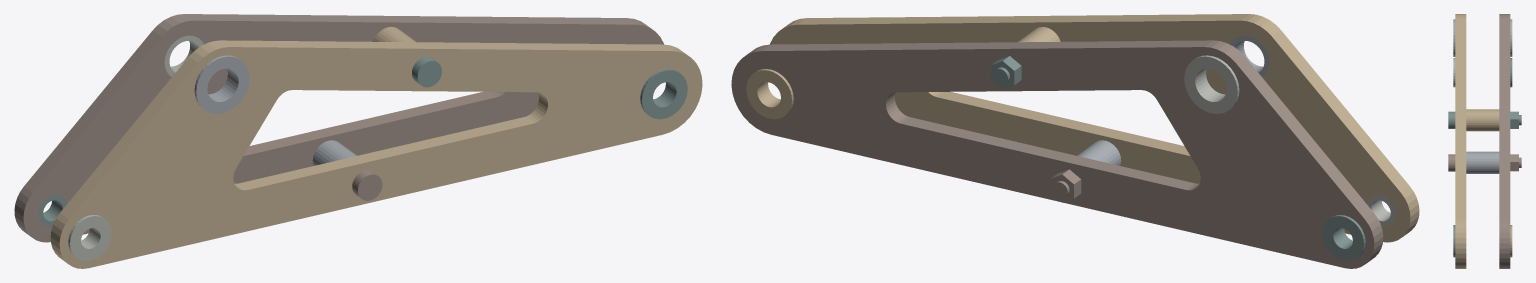
Rendered from solar-front-d1-twin-plates.glb.
The picture shows the model from 3 angles, left to right: view 1: azimuth 30°, elevation 25°; view 2: azimuth 150°, elevation 25°; view 3: azimuth 270°, elevation 25°; orthographic projection. The views are drawn at different scales.
Visible parts, largest first — view 1: part-1, part-5, part-4, part-2, part-3, part-10, part-12, part-9, part-7, part-8, part-11; view 2: part-5, part-1, part-8, part-6, part-7, part-10, part-12, part-9, part-3, part-4, part-11; view 3: part-1, part-5, part-9, part-11, part-10, part-12, part-4, part-8, part-2, part-6, part-3, part-7.
Part boxes in pixels (<box>): part-1: <box>50,40,702,268</box>; part-5: <box>14,14,663,242</box>; part-4: <box>194,55,249,113</box>; part-2: <box>640,69,687,119</box>; part-3: <box>68,215,111,260</box>; part-10: <box>312,131,382,200</box>; part-12: <box>412,57,441,87</box>; part-9: <box>312,140,356,165</box>; part-7: <box>38,195,67,226</box>; part-8: <box>164,35,203,76</box>; part-11: <box>373,27,416,42</box>; part-5: <box>731,40,1383,268</box>; part-1: <box>770,14,1419,242</box>; part-8: <box>1184,55,1239,113</box>; part-6: <box>746,69,793,119</box>; part-7: <box>1322,215,1365,260</box>; part-10: <box>1050,169,1081,202</box>; part-12: <box>991,56,1021,89</box>; part-9: <box>1077,140,1121,165</box>; part-3: <box>1366,195,1395,226</box>; part-4: <box>1230,35,1269,76</box>; part-11: <box>1017,27,1060,42</box>; part-1: <box>1455,14,1466,268</box>; part-5: <box>1499,14,1510,268</box>; part-9: <box>1466,151,1499,173</box>; part-11: <box>1466,109,1499,131</box>; part-10: <box>1448,154,1521,171</box>; part-12: <box>1448,111,1521,128</box>; part-4: <box>1453,19,1455,56</box>; part-8: <box>1510,19,1512,56</box>; part-2: <box>1453,225,1455,257</box>; part-6: <box>1510,225,1512,257</box>; part-3: <box>1453,58,1455,87</box>; part-7: <box>1510,58,1512,87</box>.
Bounding box in the file's own units: 261 × 75.44 × 42.25.
